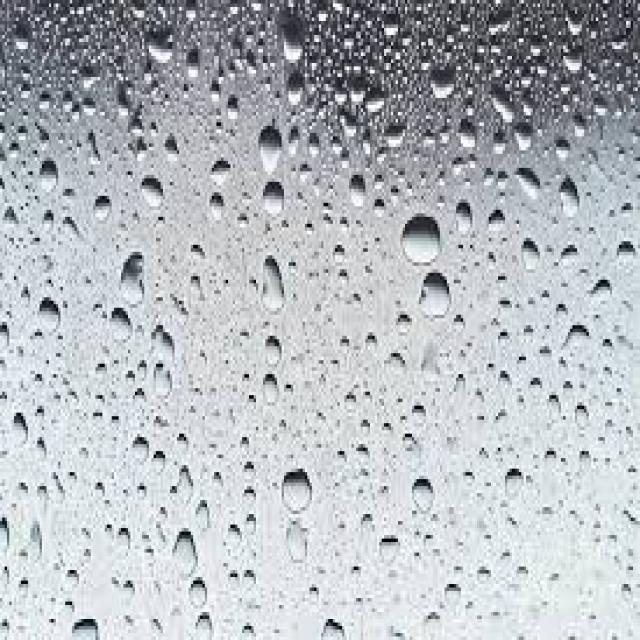raindrop: (396, 205, 452, 280), (250, 250, 296, 324), (110, 240, 154, 316), (274, 454, 317, 530), (275, 3, 314, 74), (163, 525, 205, 587), (252, 161, 288, 231), (414, 262, 454, 324), (256, 118, 292, 186), (510, 152, 548, 216), (146, 24, 184, 82), (132, 164, 170, 220), (430, 58, 468, 114), (30, 286, 72, 336), (349, 79, 394, 124), (554, 163, 586, 226), (35, 158, 67, 208), (104, 300, 136, 346), (408, 470, 436, 520), (207, 157, 237, 195)
